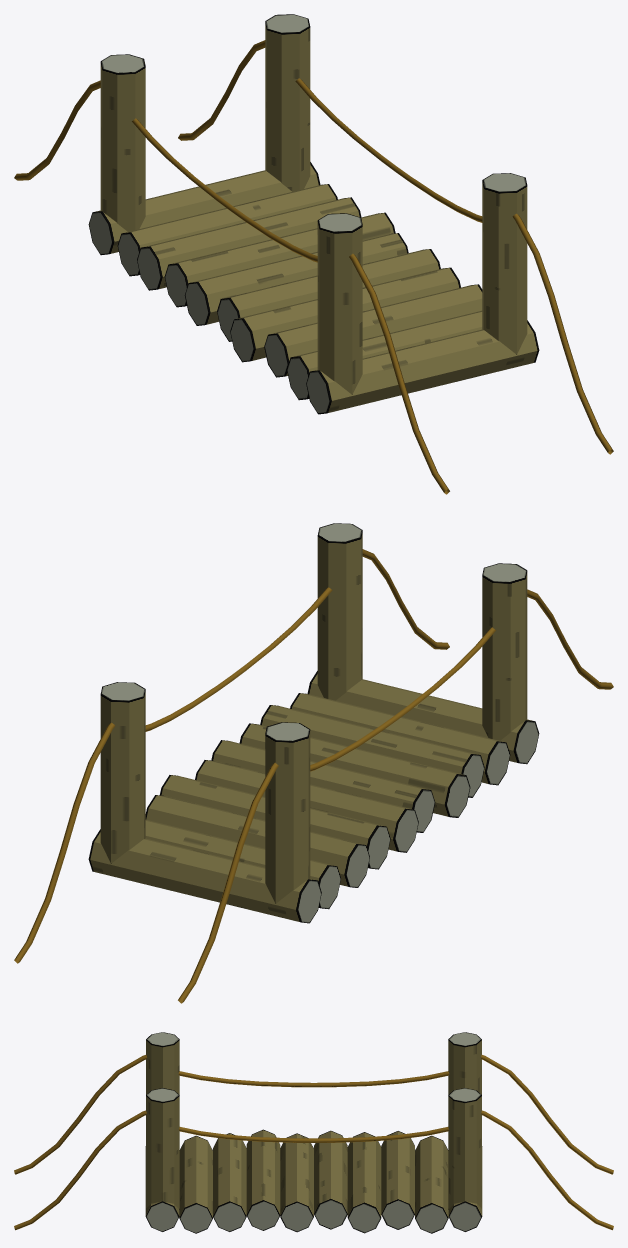
Rendered from BridgePack_01.glb.
3 views of the same model, one above another, from view 1: azimuth 30°, elevation 25°; view 2: azimuth 150°, elevation 25°; view 3: azimuth 270°, elevation 25° (orthographic). The views are drawn at different scales.
Visible parts, largest first — view 1: BridgePack_01; view 2: BridgePack_01; view 3: BridgePack_01.
Part boxes in pixels (x1,y1,x2,y2): BridgePack_01: [14, 14, 613, 494]; BridgePack_01: [14, 523, 613, 1003]; BridgePack_01: [14, 1032, 613, 1233].
Bounding box in the file's own units: 2.07 × 1.78 × 7.14.
Materials: 1 (1 with a texture image).
